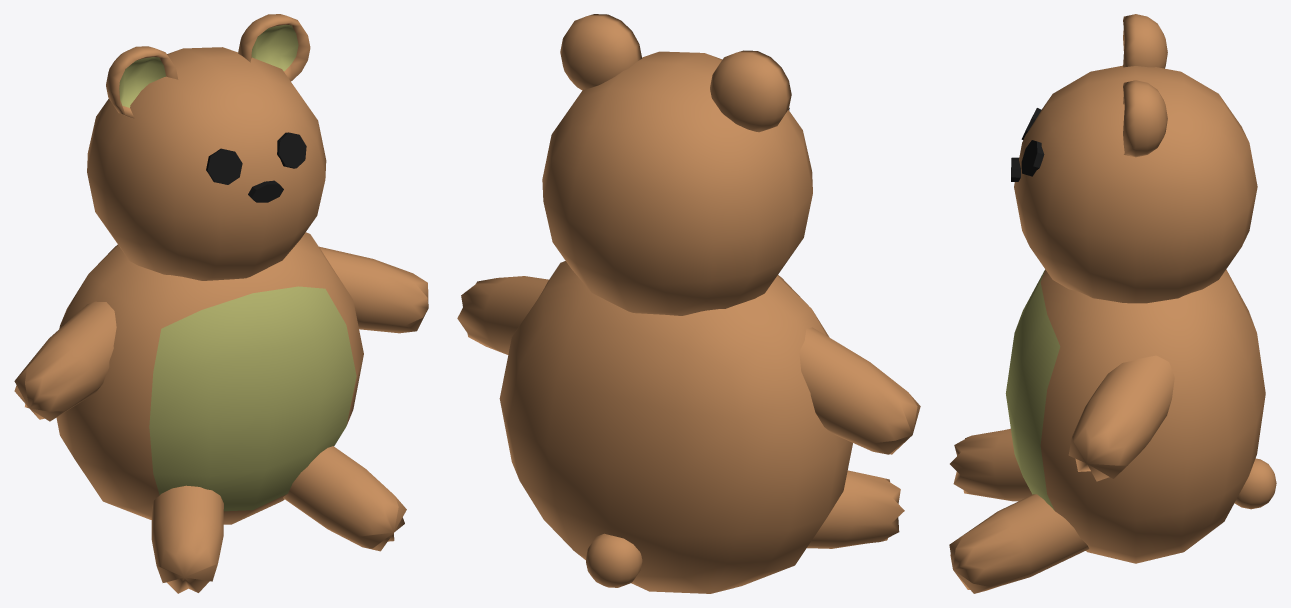
File: Teddy.fbx
3 renders of one model, left to right at view 1: azimuth 30°, elevation 25°; view 2: azimuth 150°, elevation 25°; view 3: azimuth 270°, elevation 25°, orthographic. The views are drawn at different scales.
Parts seen in each view (by area): view 1: pCylinder15; view 2: pCylinder15; view 3: pCylinder15.
Part boxes in pixels (<box>): pCylinder15: <box>14,14,428,593</box>; pCylinder15: <box>457,14,920,593</box>; pCylinder15: <box>949,14,1276,593</box>.
Size of the model in its own units: 0.7373 by 0.8461 by 0.5066.
